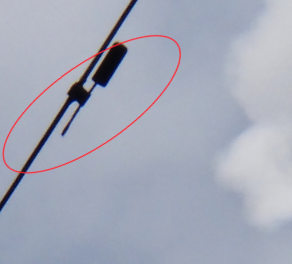damper_defect: (55, 40, 130, 139)
